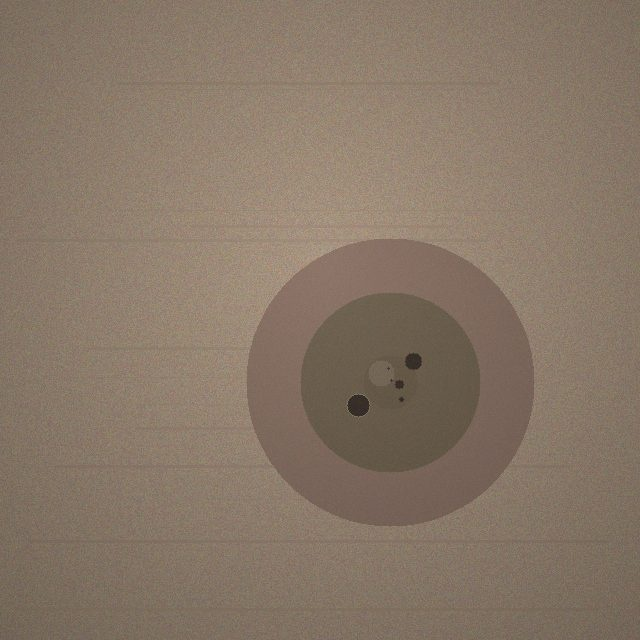shrinkage: (246, 238, 534, 526)
